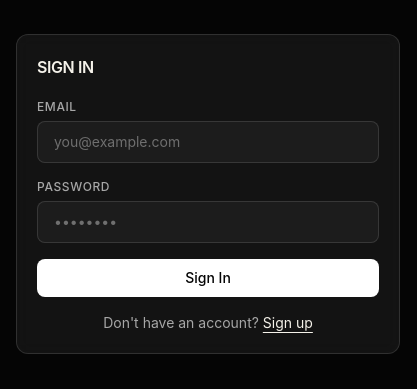
LoginPage › shows validation error on failed login
The image size is (417, 389).
Type "test@example.com" into the field labelled "Email" at point(208, 142), box [37,121,379,163]
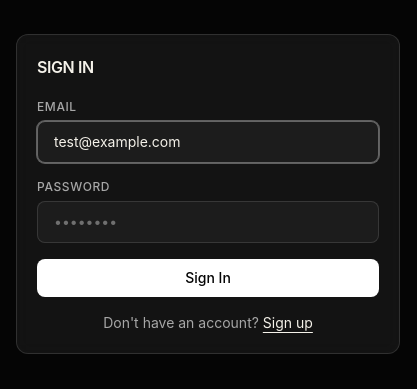
Type "password" into the password field labelled "Password" at point(208, 222), box [37,201,379,243]
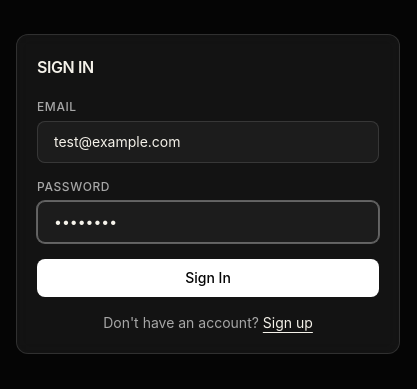
Click the button "Sign In" at point(208, 278), box [37,259,379,297]
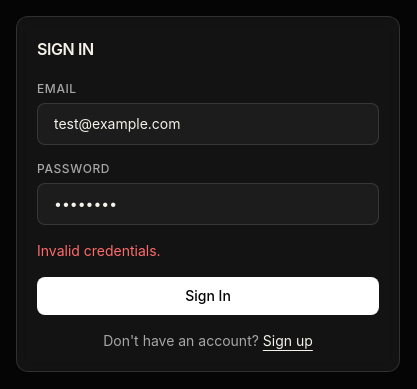
Expected: the text "Invalid credentials." is shown, [37,242,161,259]
